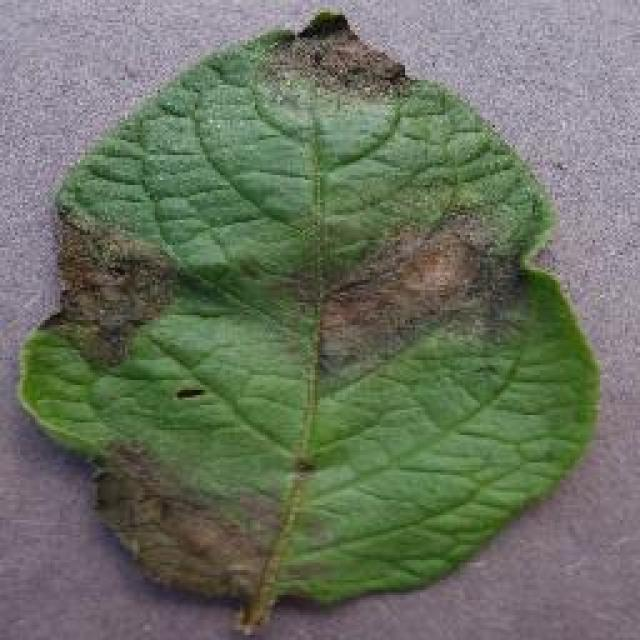late_blight: (13, 5, 605, 635)
